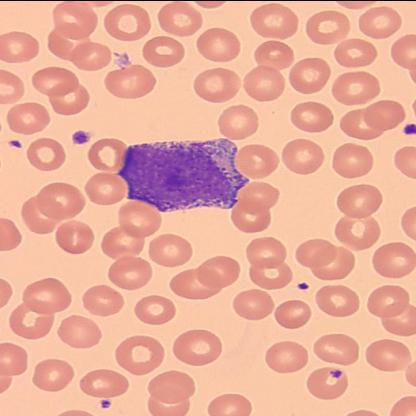Promyelocyte: (120, 137, 250, 209)
